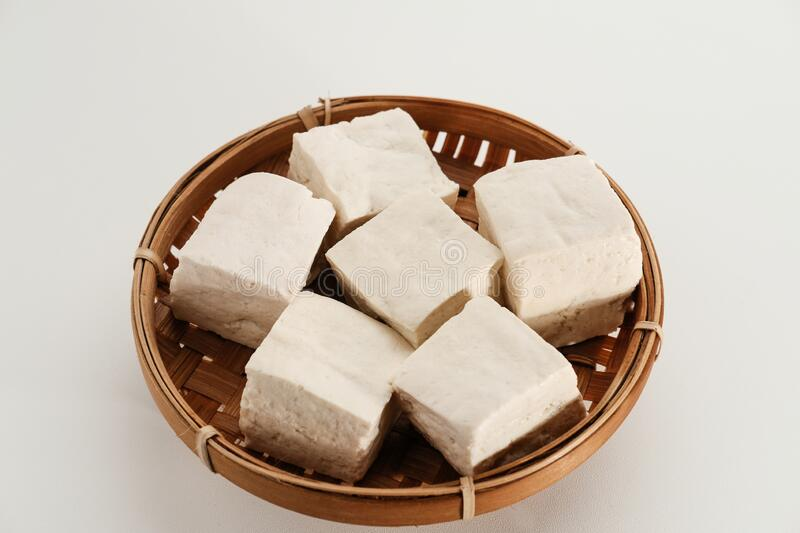Tahu: (407, 283, 576, 489), (250, 293, 417, 440), (303, 99, 448, 241), (513, 146, 616, 305), (349, 191, 476, 313), (202, 180, 311, 312)
